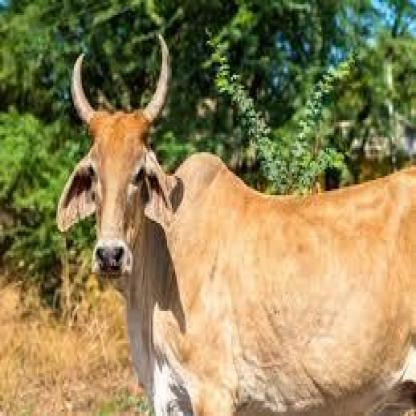cow: (56, 32, 416, 416)
